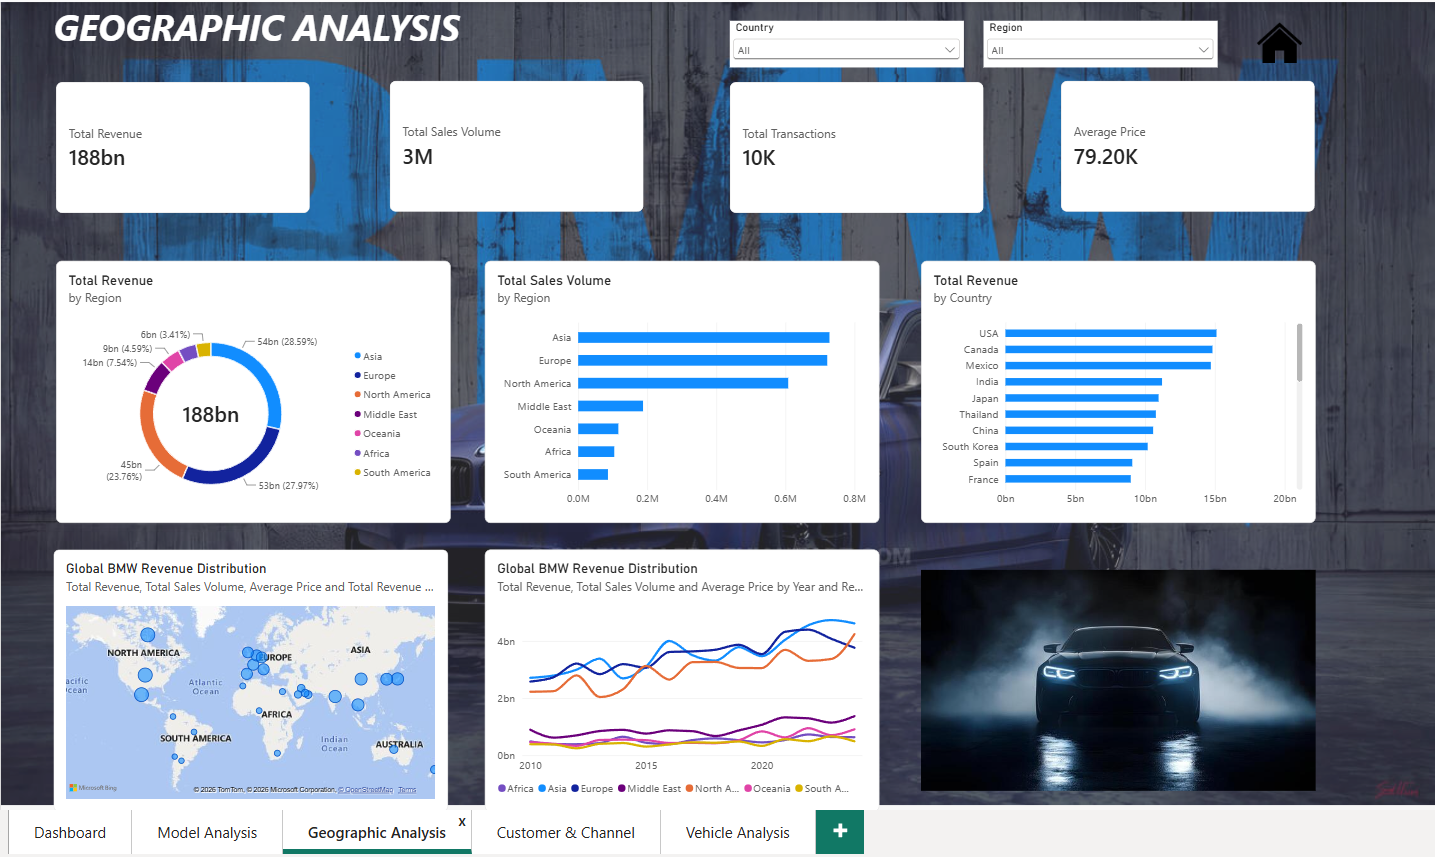

The dashboard page shown, as its layout file describes it:
{"tool":"powerbi","page":{"name":"Geographic Analysis","canvas":[1920,1080],"ordinal":2},"visuals":[{"type":"textbox","box":[70,0,668.8,104.2],"z":0},{"type":"cardVisual","fields":{"Data":["measure.Total Revenue"]},"box":[72.9,106.2,339.6,175],"z":1000},{"type":"cardVisual","fields":{"Data":["measure.Average Price"]},"box":[1416.1,105,339.6,175],"z":2000},{"type":"cardVisual","fields":{"Data":["measure.Total Transactions"]},"box":[973.6,107,339.6,175],"z":3000},{"type":"cardVisual","fields":{"Data":["measure.Total Sales Volume"]},"box":[518.7,105,339.6,175],"z":4000},{"type":"donutChart","fields":{"Category":["BMW_Sales.Region"],"Y":["measure.Total Revenue"]},"box":[72.9,345.8,527.1,350],"z":5000},{"type":"clusteredBarChart","fields":{"Category":["BMW_Sales.Region"],"Y":["measure.Total Sales Volume"]},"box":[646.3,345.8,527.1,350],"z":6000},{"type":"barChart","fields":{"Category":["BMW_Sales.Country"],"Y":["measure.Total Revenue"]},"box":[1228.8,345.8,527.1,350],"z":7000},{"type":"map","title":"Global BMW Revenue Distribution","fields":{"Size":["measure.Total Revenue"],"Category":["BMW_Sales.Country"]},"box":[70,730.7,527.1,350],"z":8000},{"type":"lineChart","title":"Global BMW Revenue Distribution","fields":{"Y":["measure.Total Revenue"],"Category":["BMW_Sales.Year"],"Series":["BMW_Sales.Region"]},"box":[646.3,730.7,527.1,350],"z":9000},{"type":"image","box":[1228.8,730.7,526.9,349.9],"z":10000},{"type":"image","box":[1675.5,16.5,66.7,75],"z":11000},{"type":"slicer","fields":{"Values":["BMW_Sales.Region"]},"box":[1313.2,24.7,312.5,62.5],"z":12000},{"type":"slicer","fields":{"Values":["BMW_Sales.Country"]},"box":[973.6,24.7,312.5,62.5],"z":13000}]}

Visuals, with their boxes on the page's 1920x1080 design canvas (x1, y1, x2, y2). These are canvas units, not pixel positions in the 1435x857 screenshot, which may show the page scaled, cropped or inside an application window:
textbox: Rect(70, 0, 739, 104)
cardVisual - measure.Total Revenue: Rect(73, 106, 412, 281)
cardVisual - measure.Average Price: Rect(1416, 105, 1756, 280)
cardVisual - measure.Total Transactions: Rect(974, 107, 1313, 282)
cardVisual - measure.Total Sales Volume: Rect(519, 105, 858, 280)
donutChart - BMW_Sales.Region x measure.Total Revenue: Rect(73, 346, 600, 696)
clusteredBarChart - BMW_Sales.Region x measure.Total Sales Volume: Rect(646, 346, 1173, 696)
barChart - BMW_Sales.Country x measure.Total Revenue: Rect(1229, 346, 1756, 696)
"Global BMW Revenue Distribution" map: Rect(70, 731, 597, 1081)
"Global BMW Revenue Distribution" lineChart: Rect(646, 731, 1173, 1081)
image: Rect(1229, 731, 1756, 1081)
image: Rect(1676, 16, 1742, 92)
slicer - BMW_Sales.Region: Rect(1313, 25, 1626, 87)
slicer - BMW_Sales.Country: Rect(974, 25, 1286, 87)
